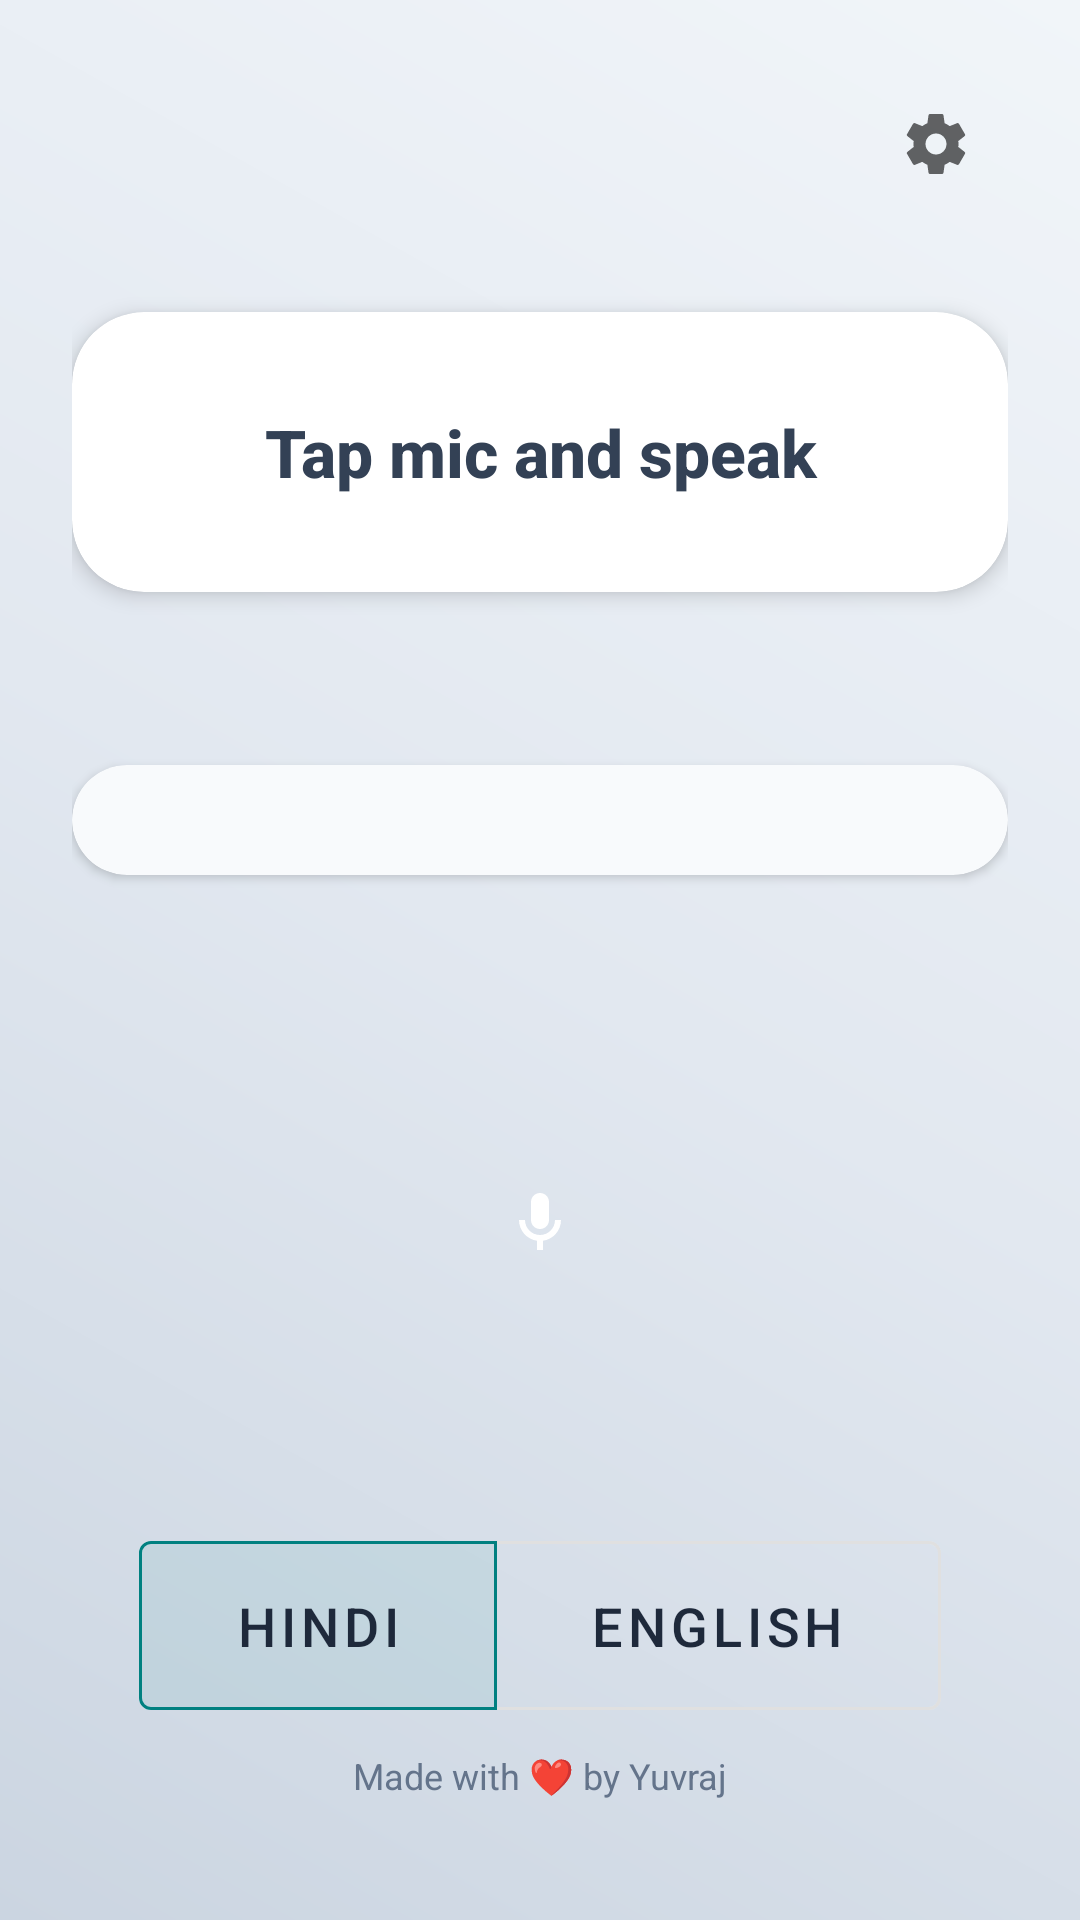

Icons on this 1080 x 1920 Android screen, each with its box as (x1, y1, x2, y2):
Microphone: (519, 1193, 561, 1250)
settings: (907, 114, 965, 174)
